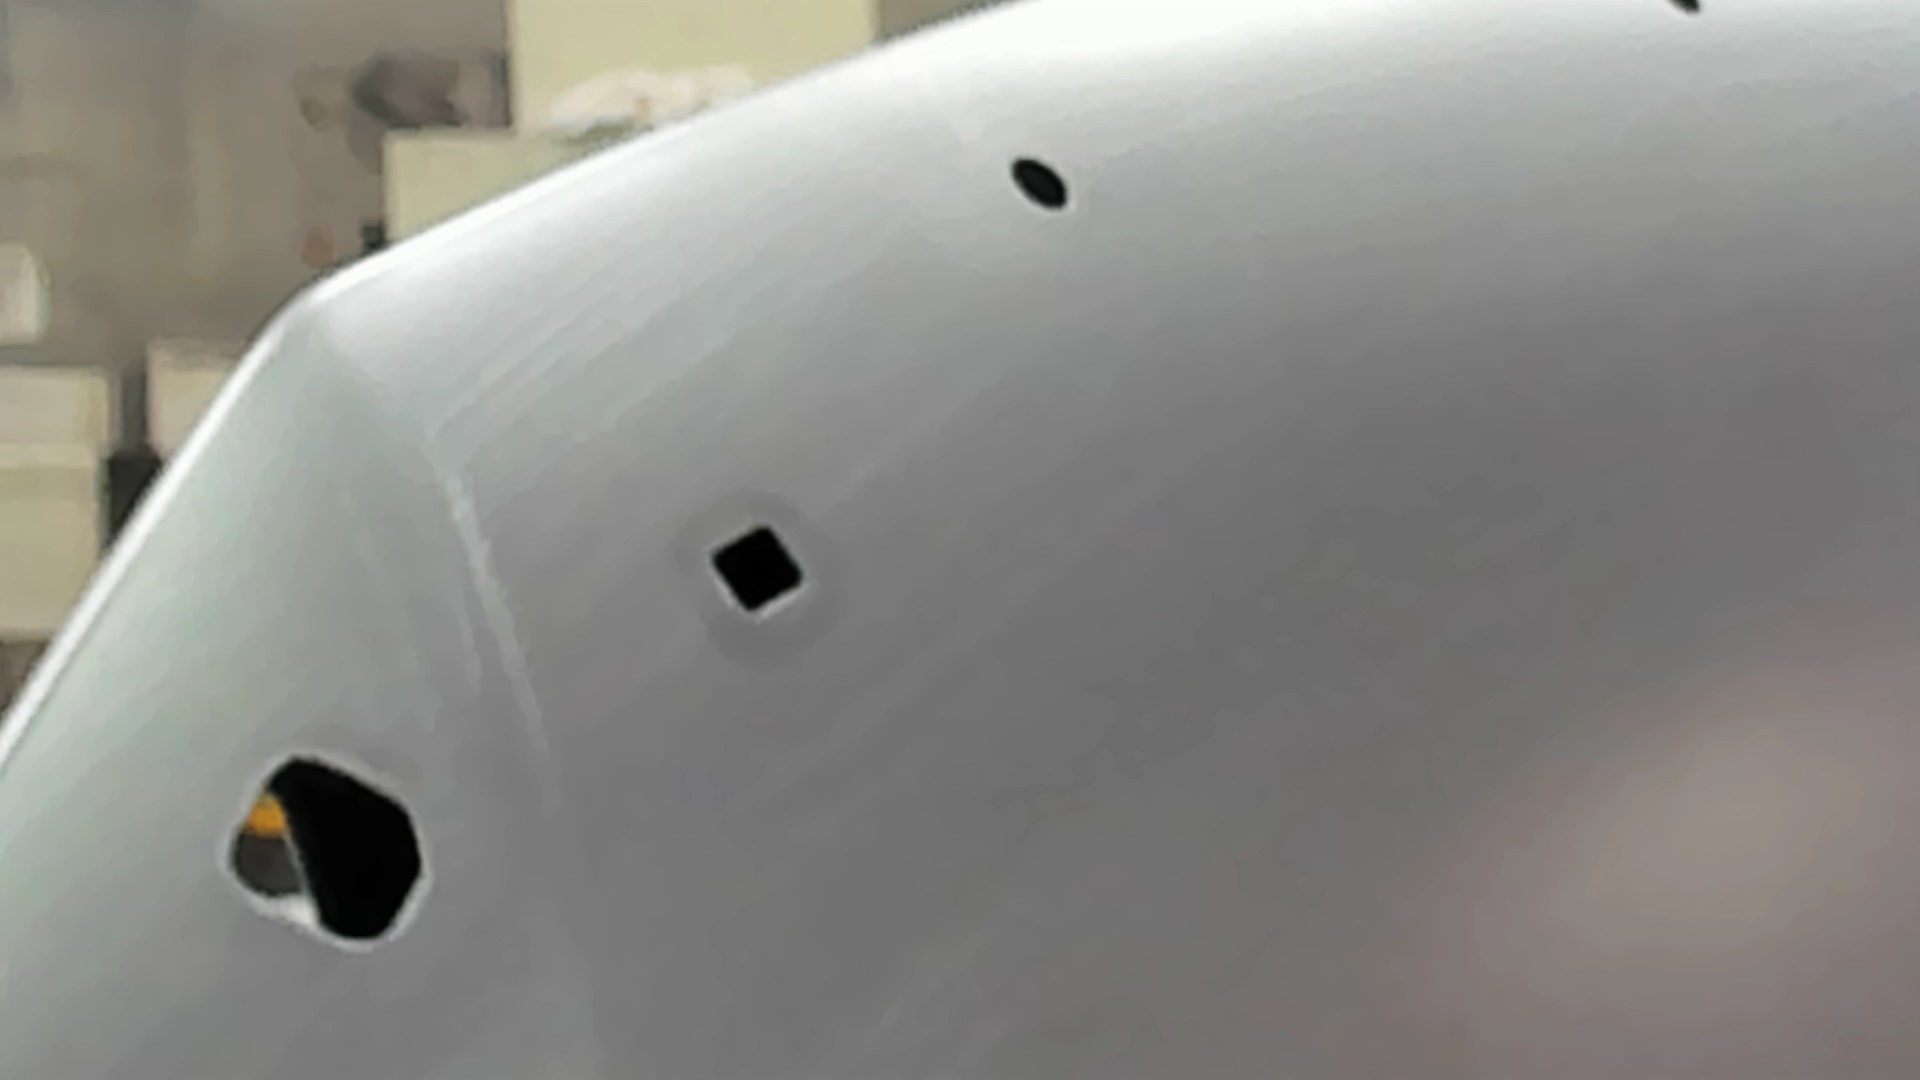chico: (1009, 152, 1073, 214), (1665, 1, 1710, 20)
grande: (215, 745, 433, 956)
mediano: (704, 517, 808, 624)
